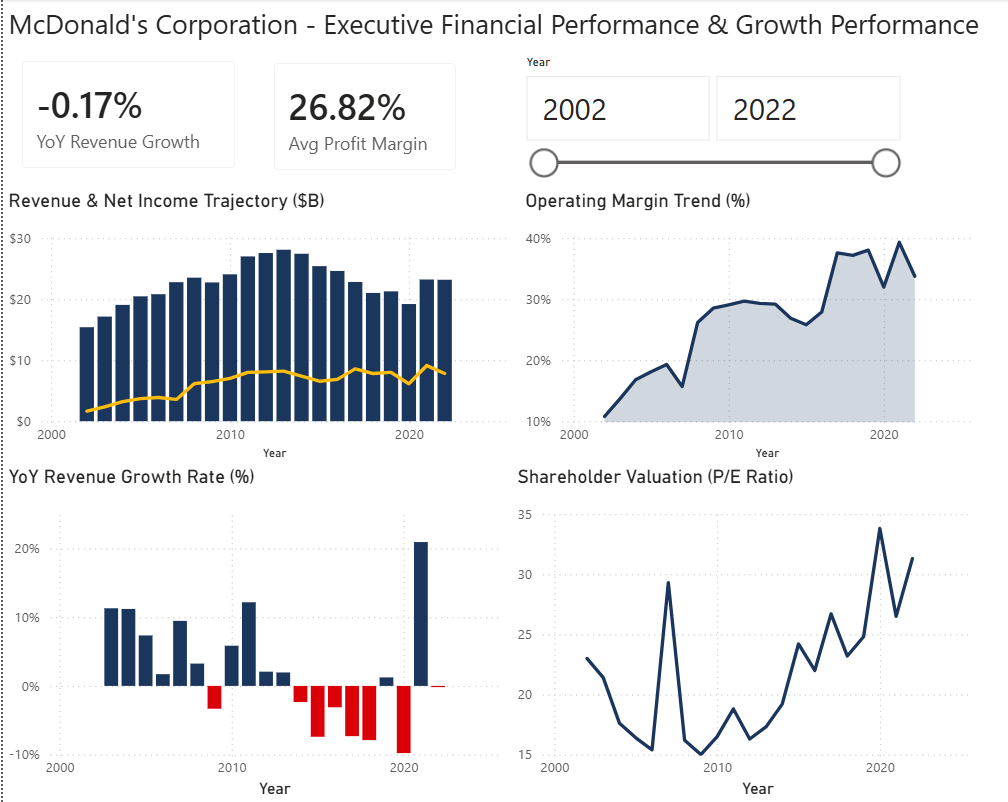

This screenshot's page, from the dashboard's own definition file:
{"tool":"powerbi","page":{"name":"Executive Overview & Growth","canvas":[900,720],"ordinal":0},"visuals":[{"type":"textbox","box":[0,0,911.4,44.6],"z":1000},{"type":"slicer","fields":{"Values":["Mcdonalds_202609031333.Year"]},"box":[455.6,44.3,355.8,122],"z":2000},{"type":"cardVisual","fields":{"Data":["Mcdonalds_202609031333.Avg Profit Margin"]},"box":[225.7,40.3,197,130],"z":4000},{"type":"cardVisual","fields":{"Data":["Mcdonalds_202609031333.YoY Revenue Growth %"]},"box":[0.1,38.5,225.7,130],"z":5000},{"type":"lineClusteredColumnComboChart","title":"Revenue & Net Income Trajectory ($B)","fields":{"Category":["Mcdonalds_202609031333.Year"],"Y":["Sum(Mcdonalds_202609031333.Revenue ($B))"],"Y2":["Sum(Mcdonalds_202609031333.Earnings ($B))"]},"box":[0,170.3,462.6,246.9],"z":6000},{"type":"areaChart","title":"Operating Margin Trend (%)","fields":{"Y":["Avg(Mcdonalds_202609031333.Operating Margin (%))"],"Category":["Mcdonalds_202609031333.Year"]},"box":[462.6,170.3,413.2,246.9],"z":7000},{"type":"clusteredColumnChart","title":"YoY Revenue Growth Rate (%)","fields":{"Category":["Mcdonalds_202609031333.Year"],"Y":["Mcdonalds_202609031333.YoY Revenue Growth %"]},"box":[0,417.3,455.6,302.4],"z":8000},{"type":"lineChart","title":"Shareholder Valuation (P/E Ratio)","fields":{"Category":["Mcdonalds_202609031333.Year"],"Y":["Avg(Mcdonalds_202609031333.P/E ratio)"]},"box":[455.6,417.3,420.3,302.4],"z":9000}]}

Visuals, with their boxes in screenshot pixels (x1, y1, x2, y2), scaled from the page's 900x720 canvas onto the 1008x802 screenshot:
textbox: detection(0, 0, 1007, 50)
slicer - Mcdonalds_202609031333.Year: detection(510, 49, 909, 185)
cardVisual - Mcdonalds_202609031333.Avg Profit Margin: detection(253, 45, 473, 190)
cardVisual - Mcdonalds_202609031333.YoY Revenue Growth %: detection(0, 43, 253, 188)
"Revenue & Net Income Trajectory ($B)" lineClusteredColumnComboChart: detection(0, 190, 518, 465)
"Operating Margin Trend (%)" areaChart: detection(518, 190, 981, 465)
"YoY Revenue Growth Rate (%)" clusteredColumnChart: detection(0, 465, 510, 801)
"Shareholder Valuation (P/E Ratio)" lineChart: detection(510, 465, 981, 801)
